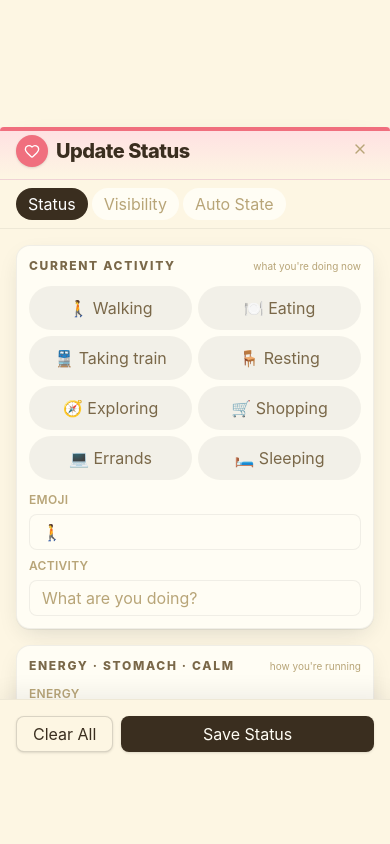
Test: TravelerStateSheet — State tab › clicking a quick-activity pill sets the activity title and emoji
Click the button "🚶 Walking": (110,308) [29,286,192,330]
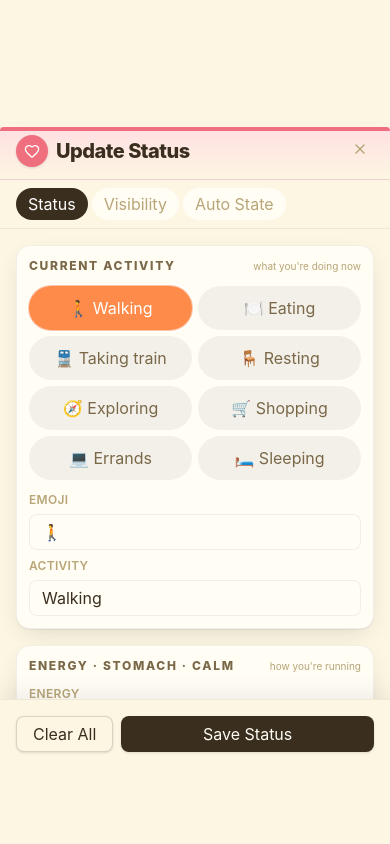
Check: the field labelled "Emoji" holds "🚶", box [29,514,361,550]
Check: the field labelled "Activity" holds "Walking", box [29,580,361,616]
